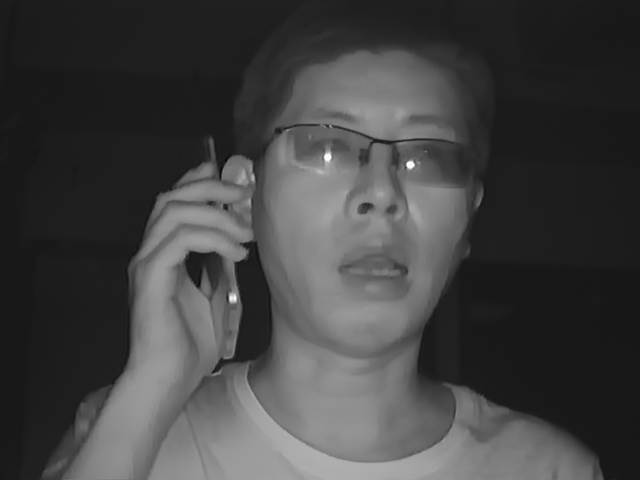hand: (124, 163, 249, 371)
